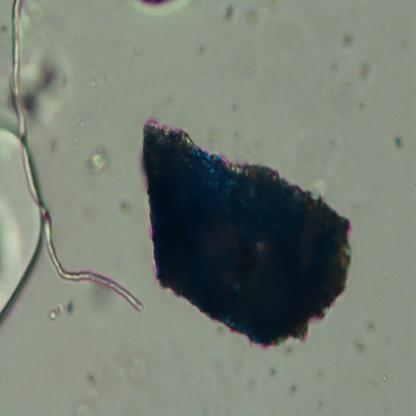Air bubble: (0, 127, 43, 328)
Background material: (22, 44, 68, 121), (74, 358, 98, 400), (85, 143, 110, 175), (124, 354, 147, 384), (48, 298, 75, 322), (137, 0, 184, 13), (356, 58, 372, 84), (220, 3, 238, 26), (116, 195, 134, 216), (340, 34, 356, 52), (245, 7, 260, 26), (362, 320, 378, 336), (353, 338, 367, 356), (352, 98, 366, 114), (267, 365, 281, 380), (393, 134, 404, 152), (290, 383, 300, 394), (132, 45, 141, 56)
Cellulose filter fibre: (12, 0, 144, 314)
Fragment: (141, 123, 353, 349)
